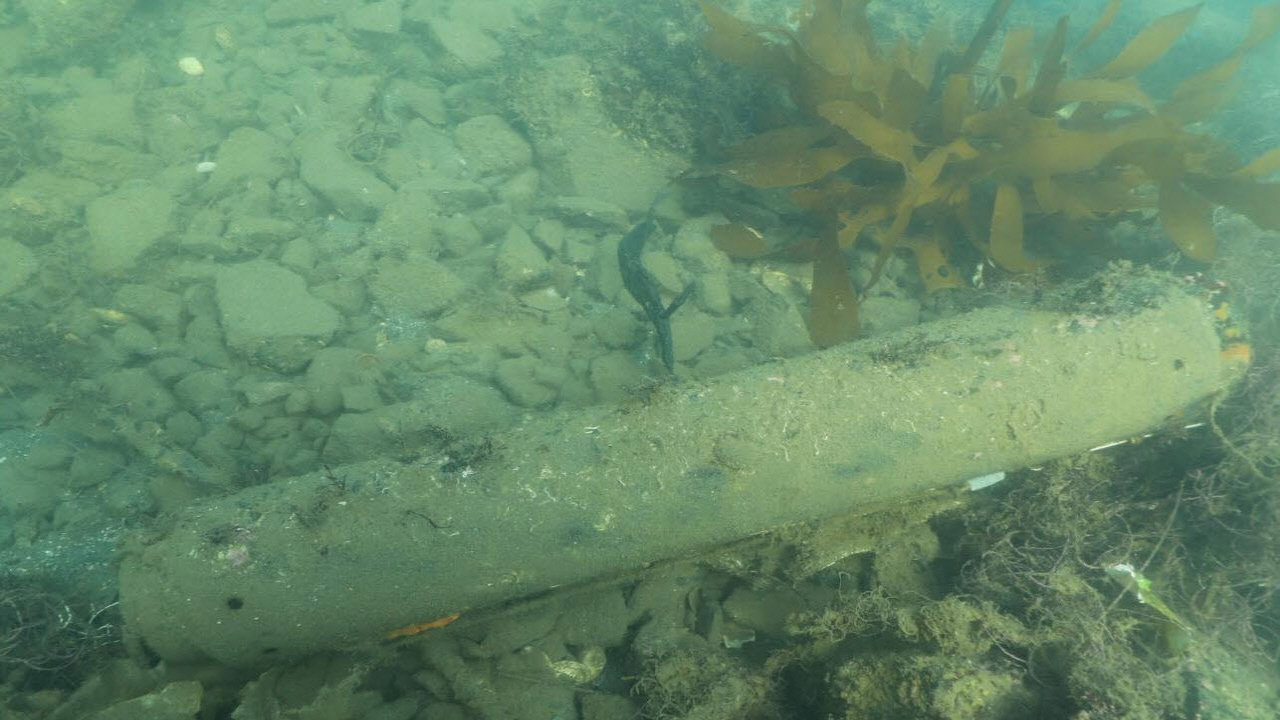eel fish trap: (115, 269, 1251, 672)
